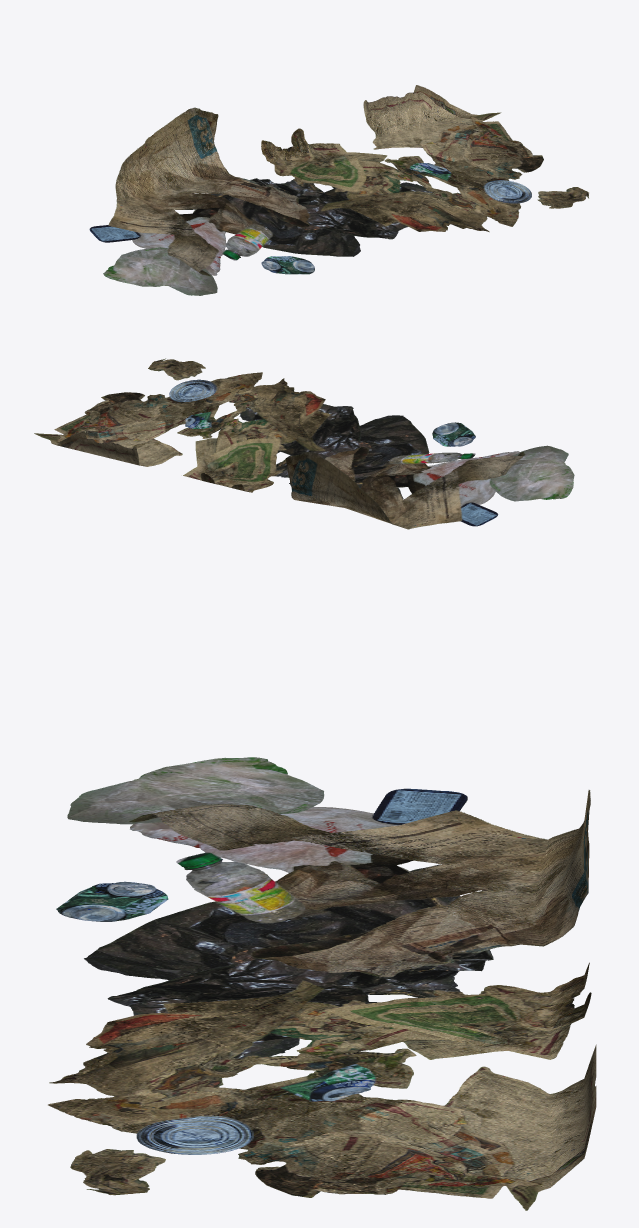
Rendered from 3D_Decal_02.fbx.
The picture shows the model from 3 angles, top to bottom: view 1: azimuth 30°, elevation 25°; view 2: azimuth 150°, elevation 25°; view 3: azimuth 270°, elevation 25°; orthographic projection. The views are drawn at different scales.
Parts seen in each view (by area): view 1: THREED_Decal; view 2: THREED_Decal; view 3: THREED_Decal.
Boxes of the visible parts, x1,y1,x2,y2 form: THREED_Decal: (89,85,588,295); THREED_Decal: (34,358,574,529); THREED_Decal: (48,757,596,1210).
Bounding box in the file's own units: 2.42 × 0.4172 × 1.23.
